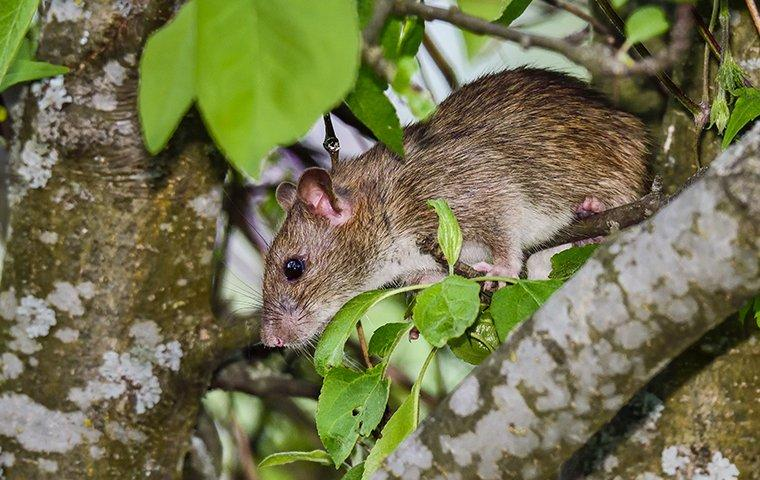rat: (260, 66, 649, 347)
